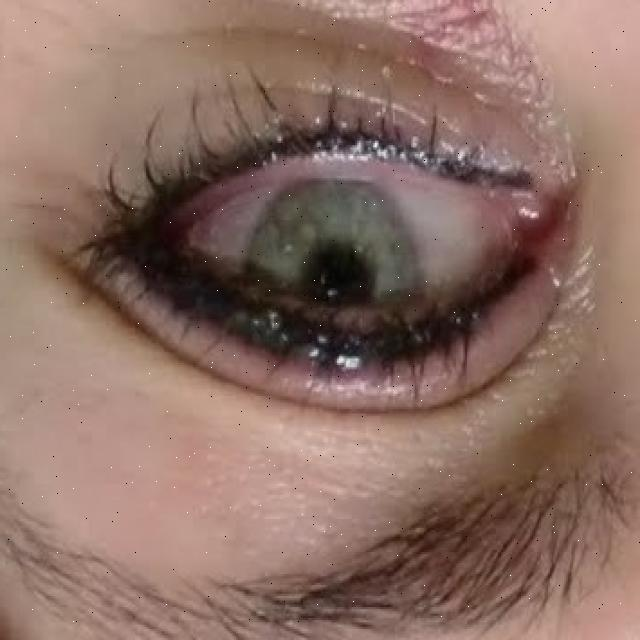Normal: (245, 170, 430, 387)
